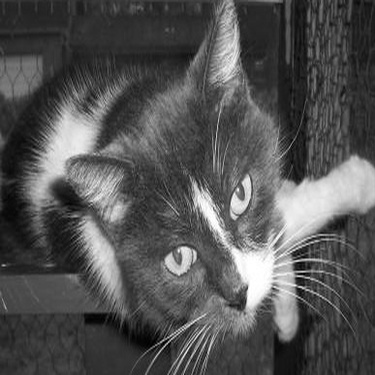cat: (1, 9, 359, 351)
